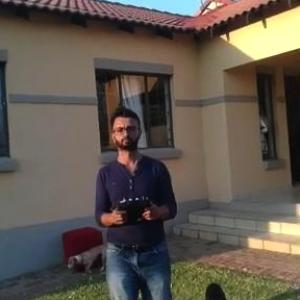follow: (92, 101, 183, 299)
null: (66, 239, 106, 277)
